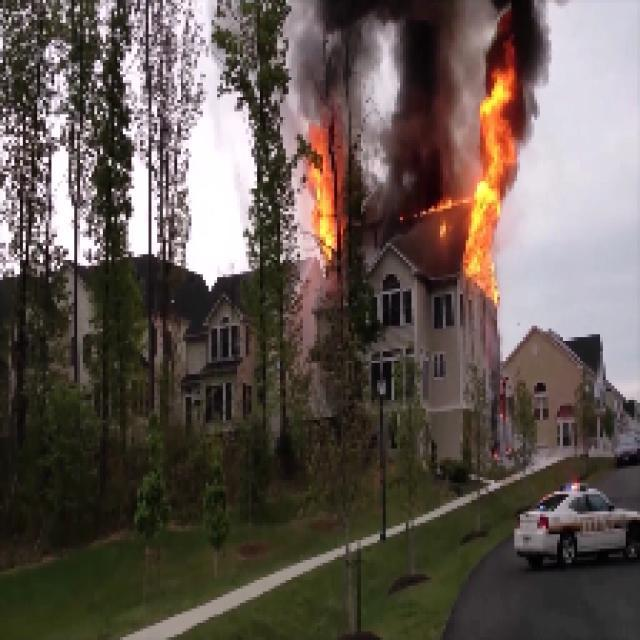Fire: (476, 98, 509, 290), (301, 142, 342, 248)
Smoke: (388, 2, 449, 192)
